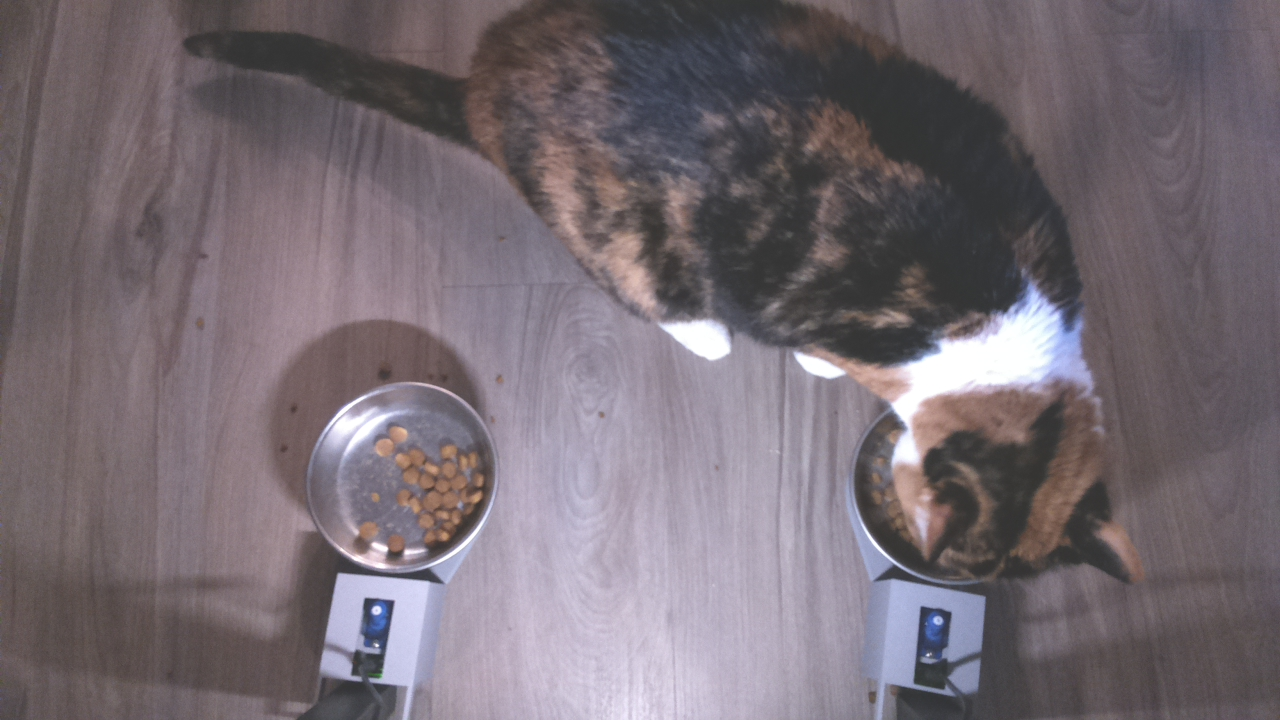bella_eating: (847, 314, 1150, 606)
open_bowl: (304, 379, 505, 583)
